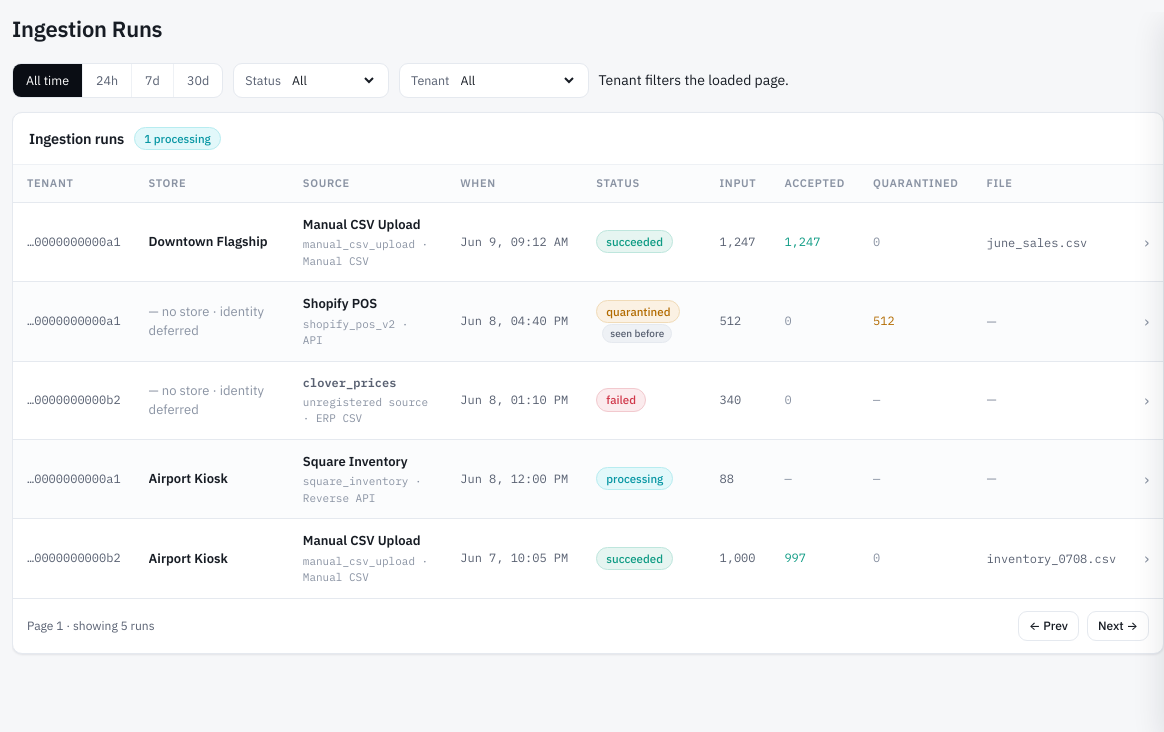
Test case: Ingestion Runs — fleet attribution › PLATFORM: Tenant column (shortened UUID, full tooltip) + auto-populated tenant filter that narrows; page-local note
Check: the column heading "Tenant" is shown, box [13, 165, 135, 202]
Check: the text "Tenant filters the loaded page." is shown, box [598, 70, 789, 91]
Select "…0000000000b2" in the dropdown labelled "Tenant" at (516, 80), box [456, 71, 576, 89]
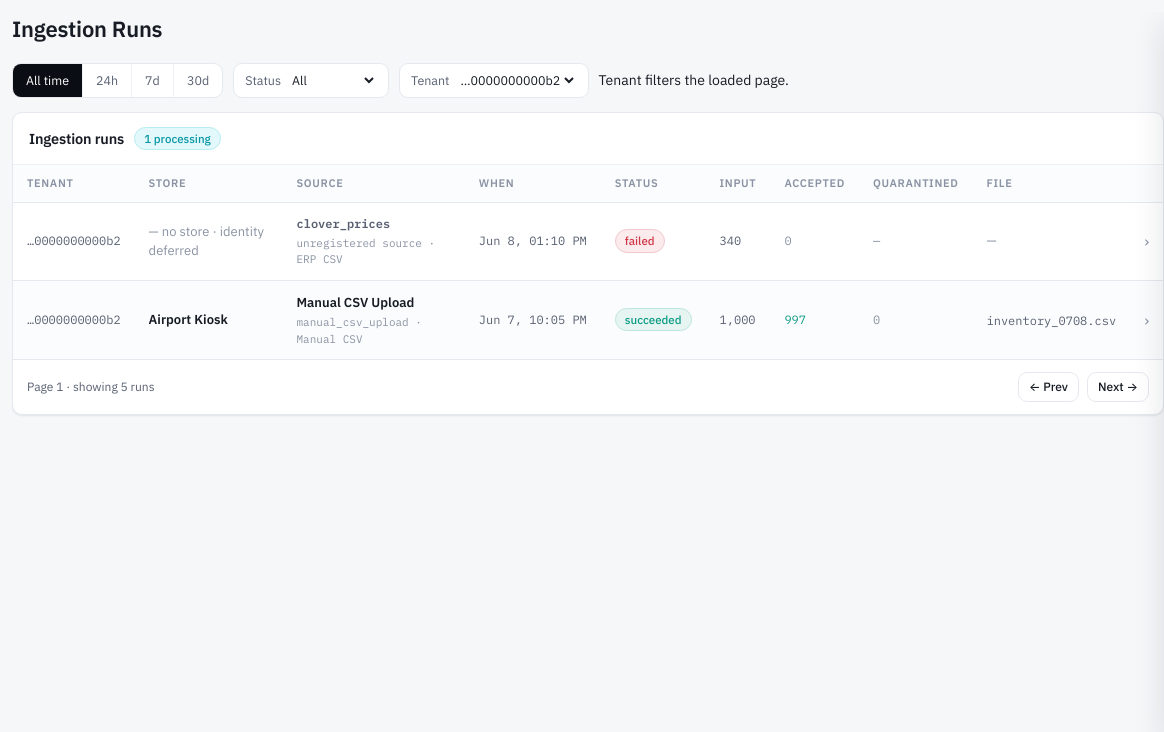
Check: the text "…0000000000a1" is not shown
